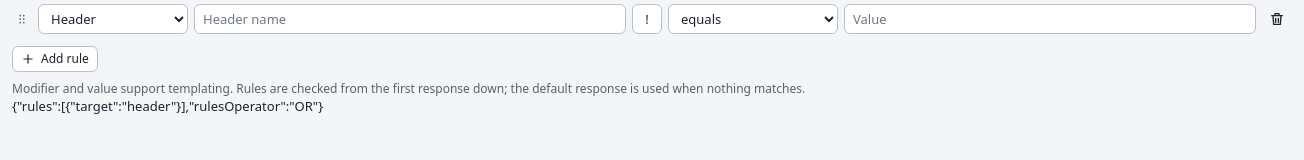
Scenario: RulesEditor › hides the modifier for targets that have none
Select "Path" in the dropdown named "Target" at (113, 19), box left=38, top=4, right=188, bottom=34
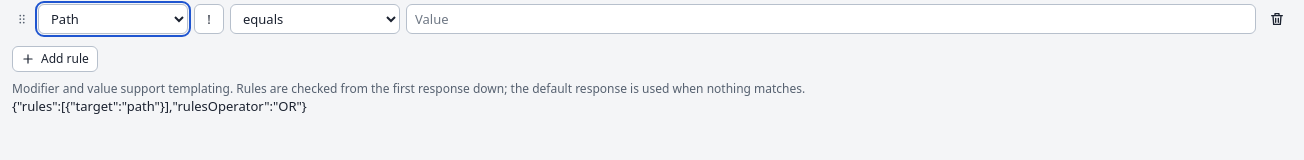
Select "Method" in the dropdown named "Target" at (113, 19), box left=38, top=4, right=188, bottom=34
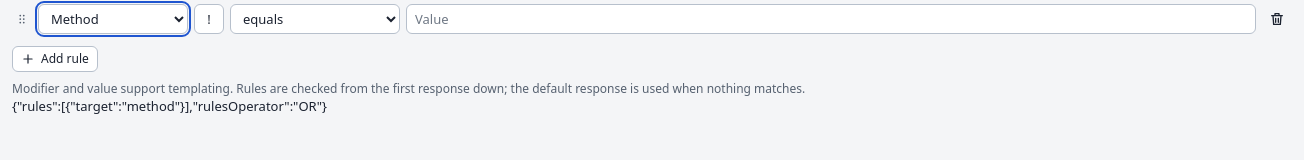
Select "Request number" in the dropdown named "Target" at (113, 19), box left=38, top=4, right=188, bottom=34
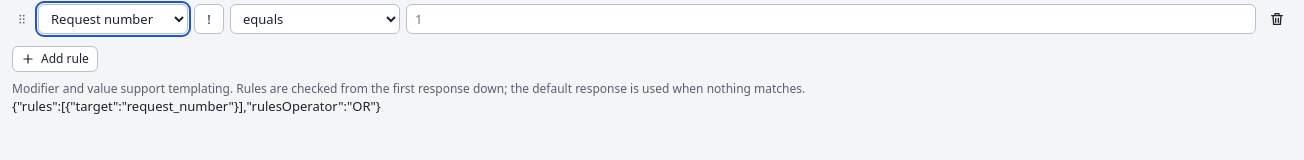
expect the field named "Value" has attribute placeholder="1": met, box left=406, top=4, right=1256, bottom=34
Select "Cookie" in the dropdown named "Target" at (113, 19), box left=38, top=4, right=188, bottom=34
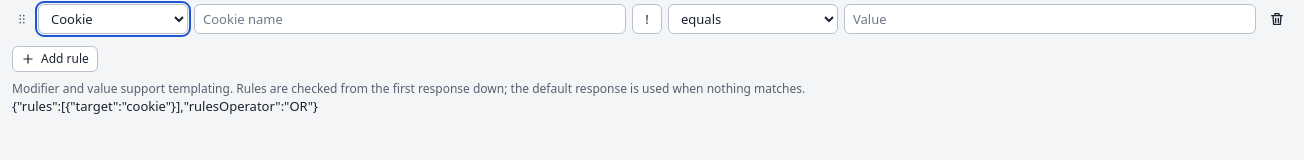
expect the field named "Modifier" has attribute placeholder="Cookie name": met, box left=194, top=4, right=626, bottom=34
